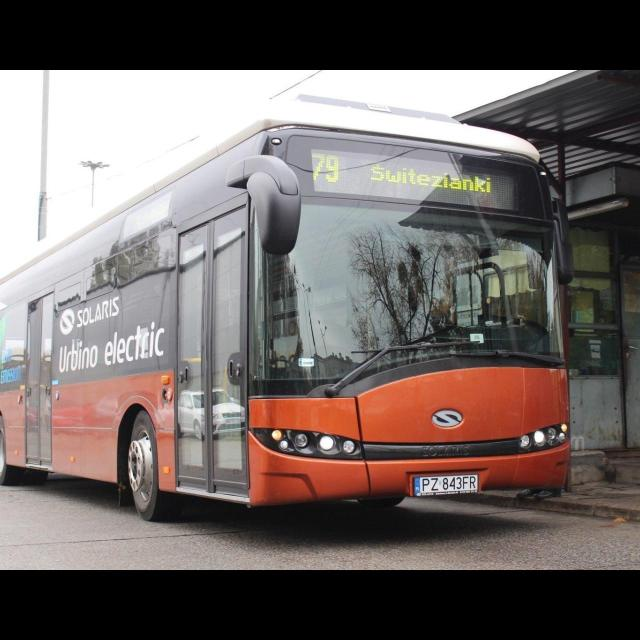Bus: (0, 102, 570, 505)
